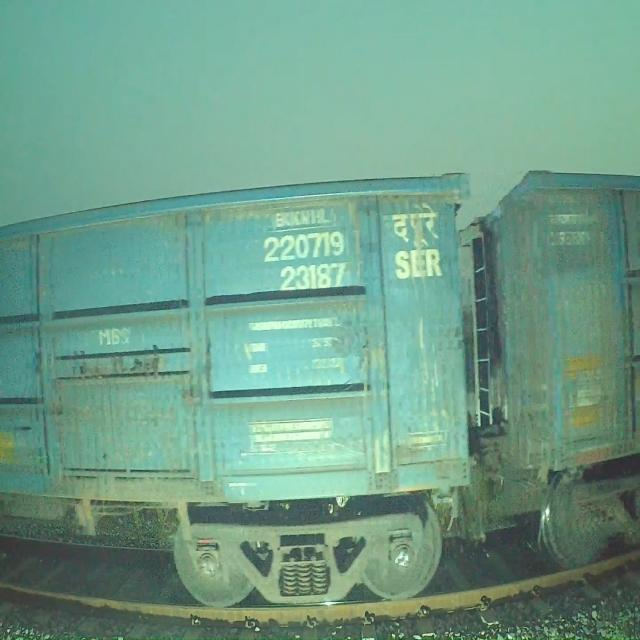WAgon-uic: (0, 165, 478, 613), (454, 156, 640, 573)
uic: (257, 223, 358, 304)
